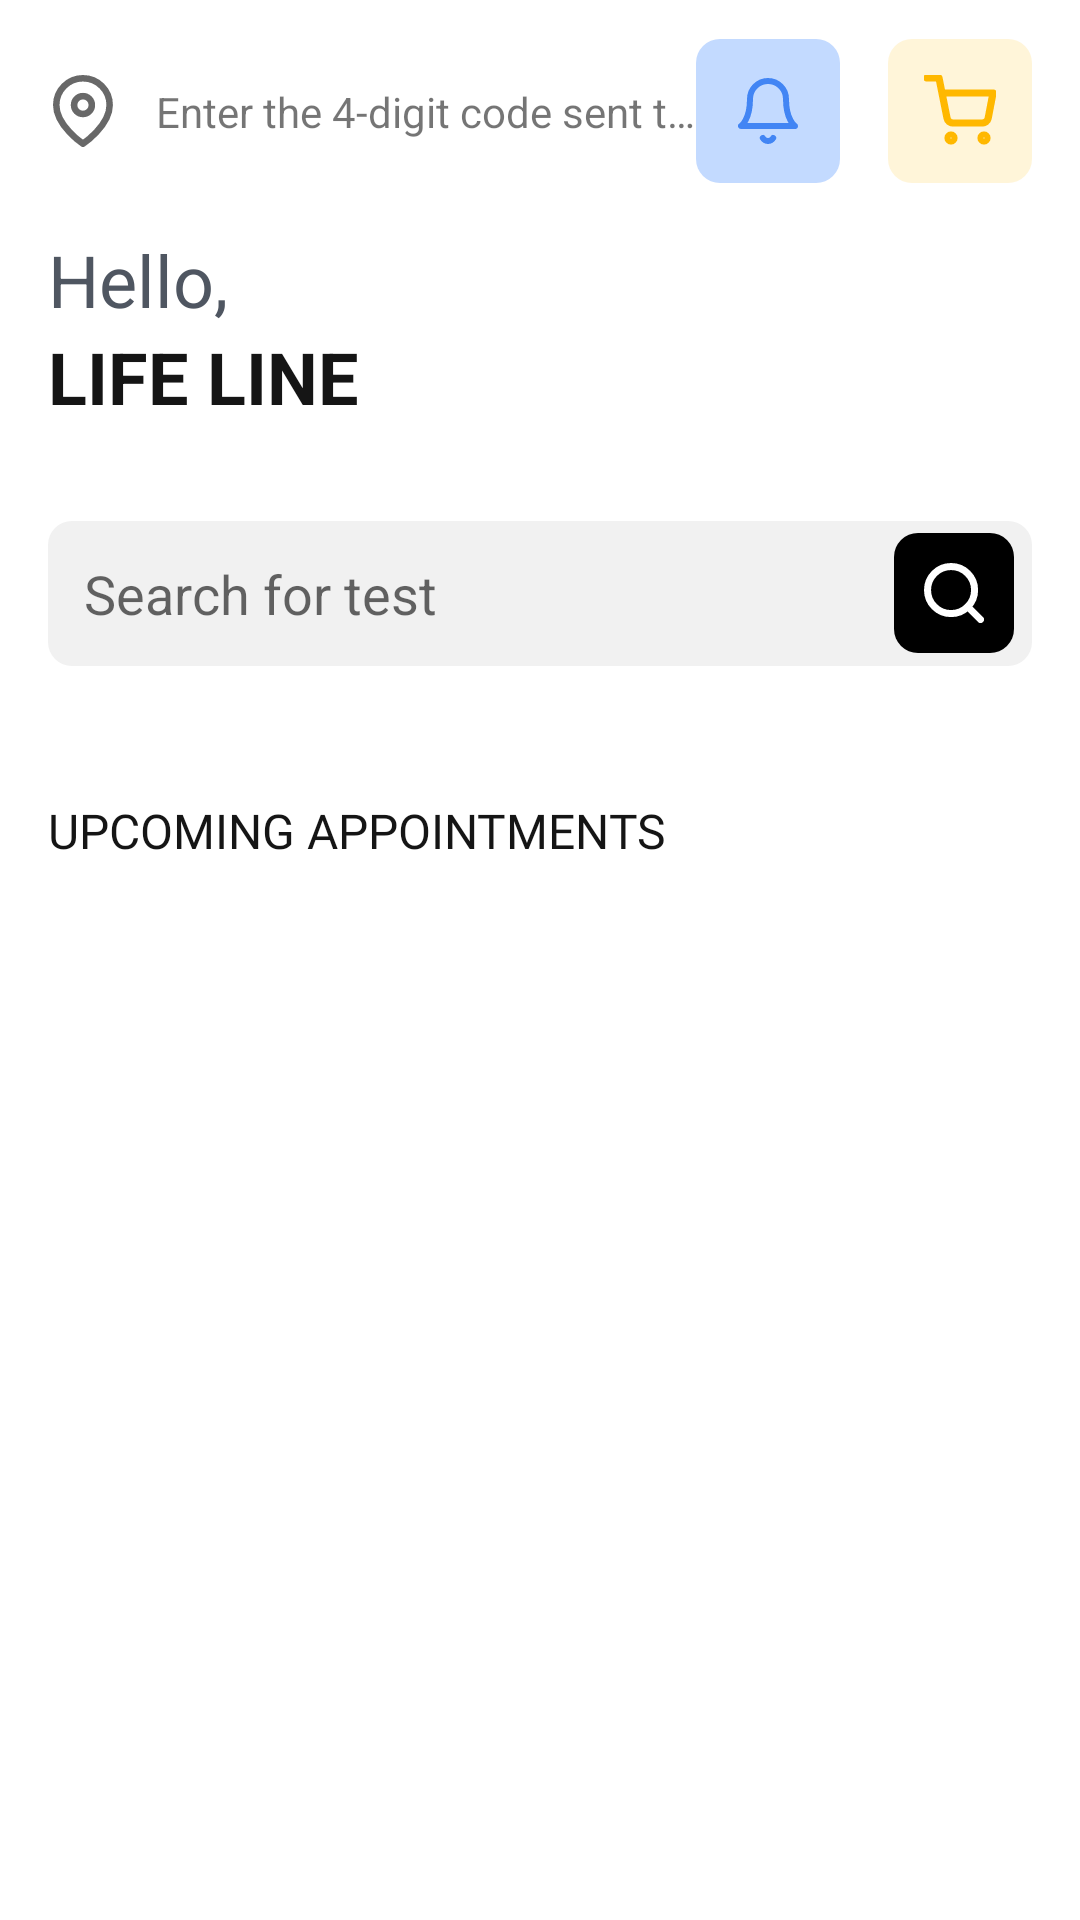

Icons on this 1080 x 1920 Android screen, each with the point to tap as (x,y):
cart: (960,111)
location: (83,111)
notification: (768,111)
